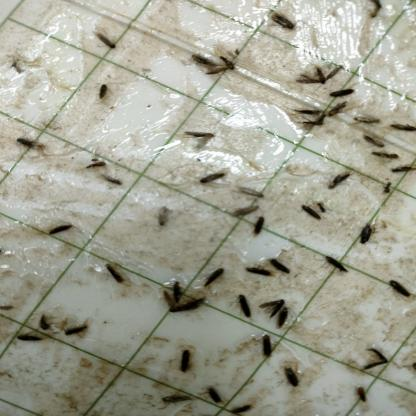prays_oleae: (294, 49, 342, 80), (188, 35, 218, 84), (200, 258, 235, 299), (60, 306, 90, 350), (358, 336, 393, 373), (183, 119, 220, 153), (384, 270, 414, 310), (326, 158, 359, 193), (195, 160, 225, 198), (93, 16, 119, 58), (322, 249, 353, 284), (170, 291, 206, 321), (11, 129, 45, 160), (101, 256, 126, 296), (267, 4, 297, 36), (217, 38, 237, 84), (12, 323, 44, 351), (326, 72, 360, 98), (160, 380, 189, 409), (47, 214, 77, 242), (281, 360, 308, 391), (352, 101, 381, 129), (243, 259, 274, 285), (299, 197, 324, 228), (34, 301, 56, 334), (178, 342, 196, 381), (234, 289, 254, 324), (358, 215, 377, 250), (270, 250, 292, 280), (230, 392, 260, 413), (231, 200, 261, 221), (389, 114, 416, 137), (241, 180, 267, 202), (329, 96, 350, 123), (250, 210, 268, 241), (368, 146, 399, 164), (254, 337, 276, 362), (390, 158, 416, 178), (170, 270, 185, 303), (92, 78, 110, 105), (350, 380, 368, 407), (262, 293, 285, 314), (364, 126, 388, 146), (205, 385, 225, 408), (275, 305, 293, 330)
